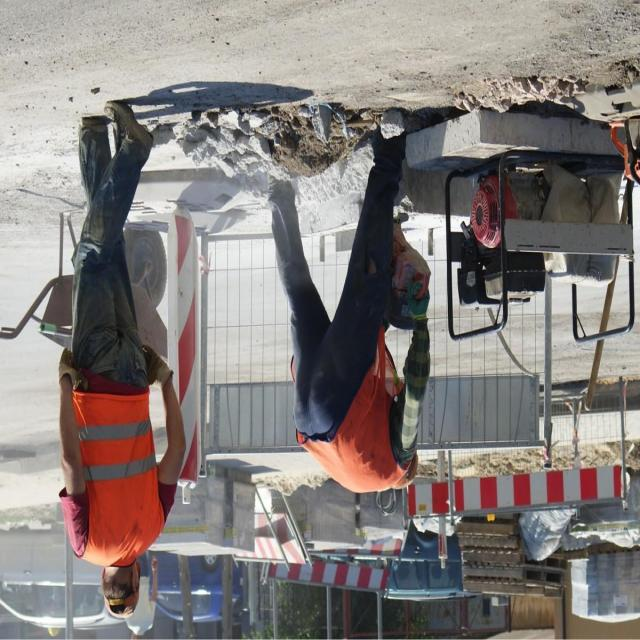jacket: (59, 372, 174, 576)
